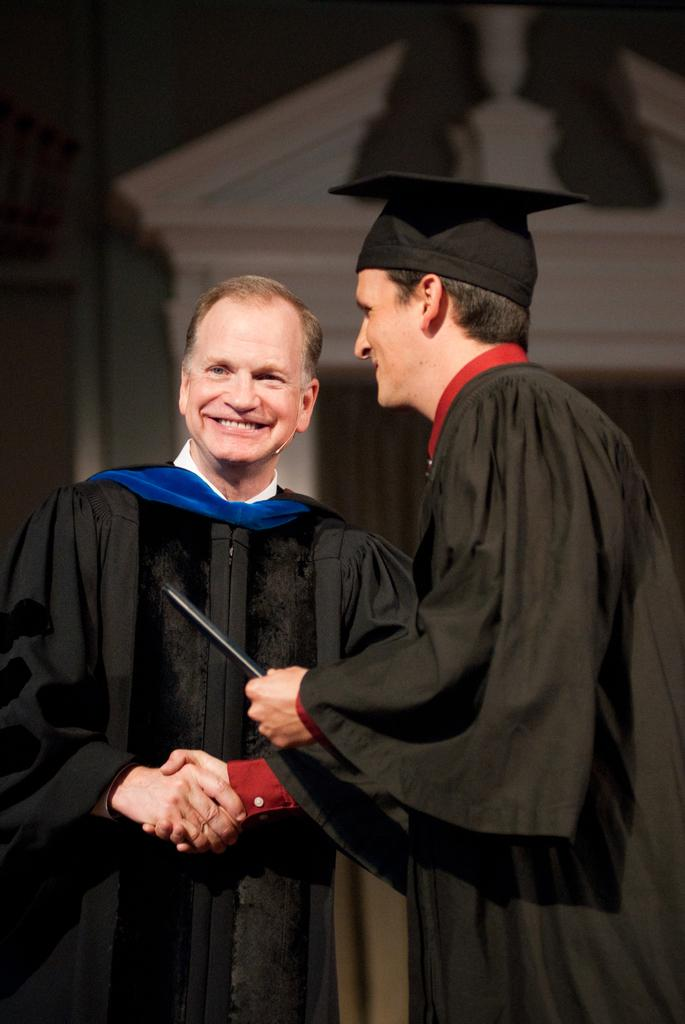Hat: (331, 166, 586, 306)
